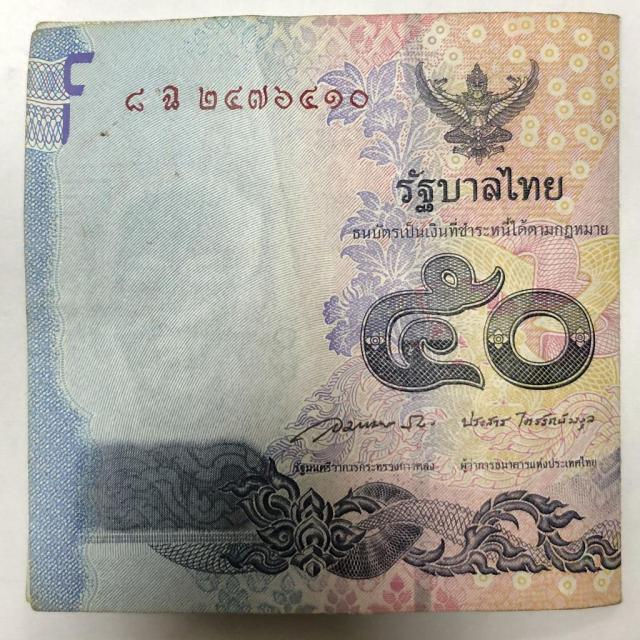THAI50: (24, 12, 622, 614)
